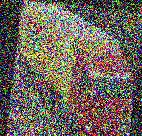truck: (8, 1, 141, 136)
